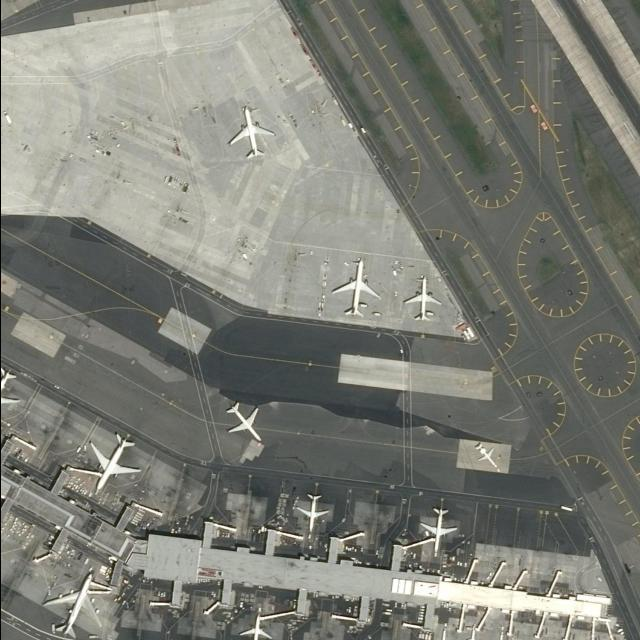Aircraft: (41, 571, 103, 639), (84, 431, 140, 491), (330, 257, 380, 317), (224, 106, 273, 160), (221, 398, 263, 444), (401, 275, 441, 323), (418, 505, 457, 554), (291, 491, 327, 533), (0, 363, 20, 422), (237, 612, 272, 640), (470, 440, 500, 472), (460, 624, 482, 640), (429, 627, 452, 640), (491, 629, 509, 640)
